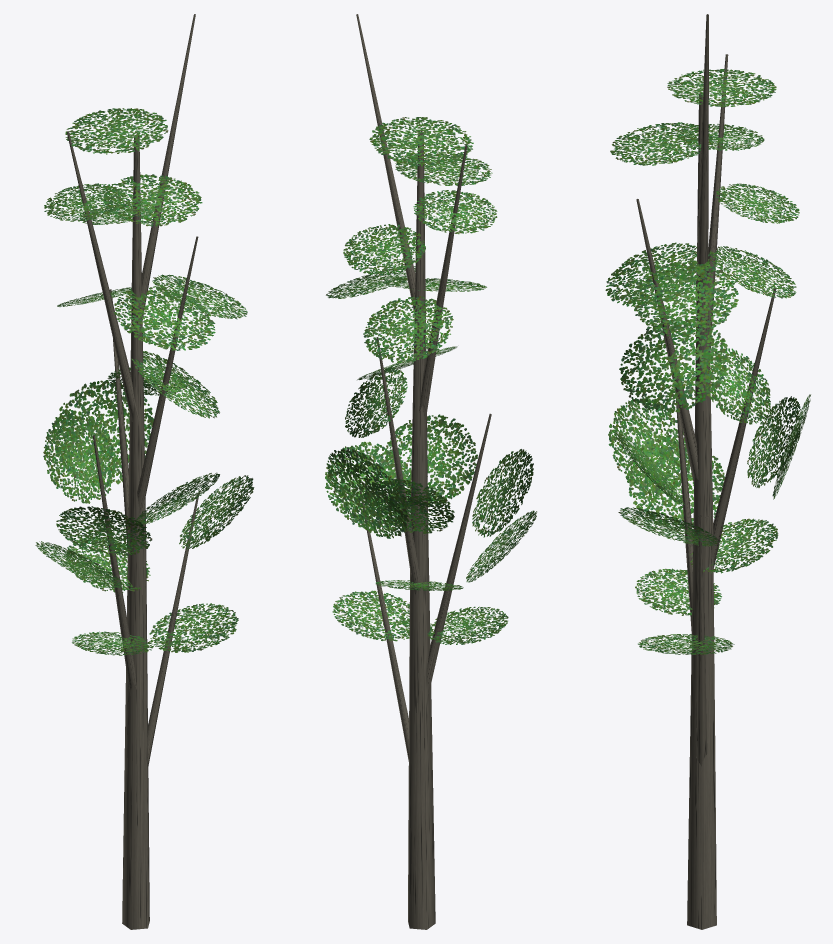
The model's file is Poplar_LOD1.fbx.
3 renders of one model, left to right at view 1: azimuth 30°, elevation 25°; view 2: azimuth 150°, elevation 25°; view 3: azimuth 270°, elevation 25°, orthographic. The views are drawn at different scales.
Parts seen in each view (by area): view 1: Poplar_LOD1; view 2: Poplar_LOD1; view 3: Poplar_LOD1.
Boxes of the visible parts, bbox=[...] form: Poplar_LOD1: bbox=[35, 14, 254, 929]; Poplar_LOD1: bbox=[325, 14, 536, 929]; Poplar_LOD1: bbox=[605, 14, 810, 929].
Size of the model in its own units: 6.07 by 23.16 by 5.23.
Materials: 1 (1 with a texture image).
